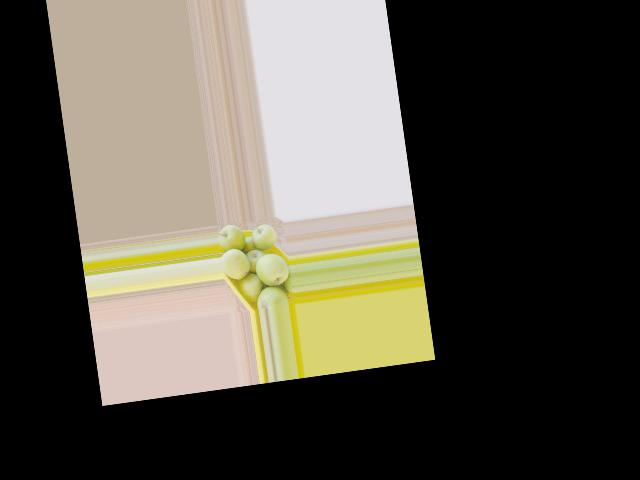apple: (233, 273, 265, 305)
